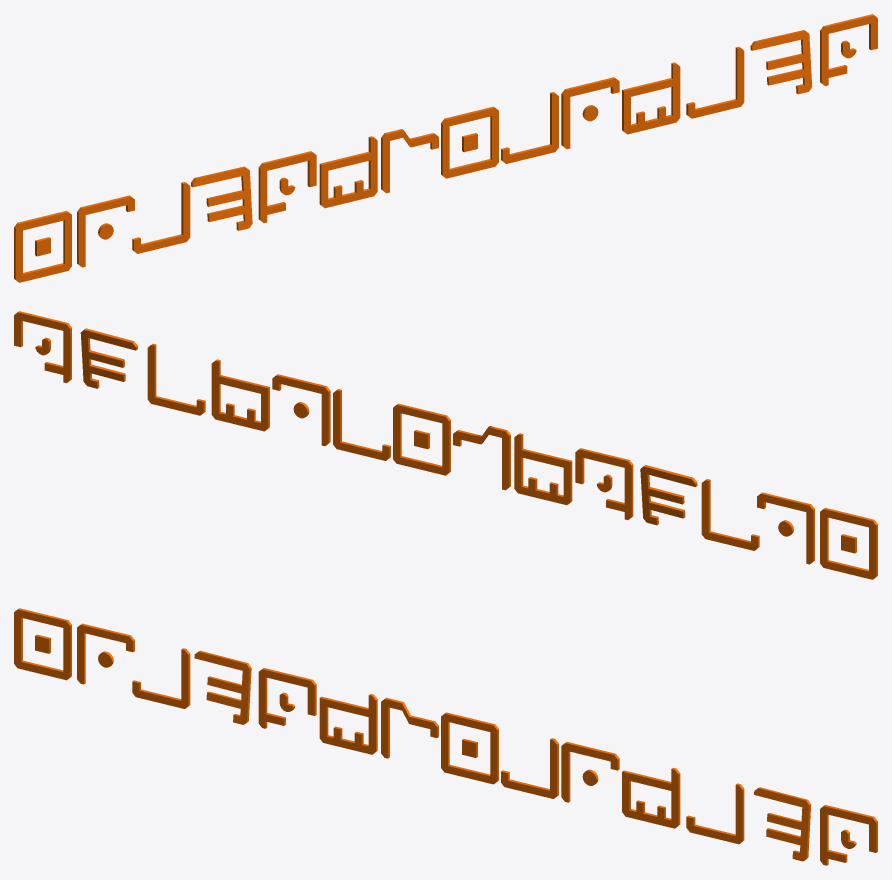
The model's file is Laser_Hieroglyphs.fbx.
The picture shows the model from 3 angles, top to bottom: view 1: azimuth 30°, elevation 25°; view 2: azimuth 150°, elevation 25°; view 3: azimuth 330°, elevation 25°; orthographic projection.
Visible parts, largest first — view 1: pCube1, pCube9, pCube6, pCube12, pCube4, pCube14, pCube5, pCube15, pCube11, pCube2, pCube13, pCube3 (+2 smaller); view 2: pCube1, pCube9, pCube6, pCube12, pCube4, pCube14, pCube5, pCube15, pCube11, pCube2, pCube13, pCube3 (+2 smaller); view 3: pCube9, pCube1, pCube6, pCube12, pCube4, pCube14, pCube5, pCube15, pCube11, pCube2, pCube13, pCube3 (+2 smaller).
Part boxes in pixels (bbox=[...]): pCube1: bbox=[14, 210, 71, 282]; pCube9: bbox=[441, 106, 498, 178]; pCube6: bbox=[319, 136, 377, 208]; pCube12: bbox=[622, 62, 680, 134]; pCube4: bbox=[191, 166, 252, 230]; pCube14: bbox=[750, 30, 812, 94]; pCube5: bbox=[258, 151, 316, 222]; pCube15: bbox=[820, 14, 877, 86]; pCube11: bbox=[561, 77, 619, 148]; pCube2: bbox=[77, 195, 134, 267]; pCube13: bbox=[686, 46, 744, 118]; pCube3: bbox=[132, 182, 190, 253]; pCube1: bbox=[820, 507, 877, 579]; pCube9: bbox=[393, 403, 450, 475]; pCube6: bbox=[514, 433, 572, 505]; pCube12: bbox=[211, 359, 269, 431]; pCube4: bbox=[640, 465, 697, 525]; pCube14: bbox=[80, 328, 137, 388]; pCube5: bbox=[575, 448, 633, 519]; pCube15: bbox=[14, 311, 71, 383]; pCube11: bbox=[272, 374, 330, 445]; pCube2: bbox=[757, 492, 814, 564]; pCube13: bbox=[147, 343, 205, 415]; pCube3: bbox=[701, 479, 759, 550]; pCube9: bbox=[441, 712, 498, 784]; pCube1: bbox=[14, 608, 71, 680]; pCube6: bbox=[319, 694, 377, 754]; pCube12: bbox=[622, 767, 680, 828]; pCube4: bbox=[194, 650, 251, 724]; pCube14: bbox=[754, 787, 811, 861]; pCube5: bbox=[258, 668, 316, 728]; pCube15: bbox=[820, 805, 877, 865]; pCube11: bbox=[561, 742, 619, 802]; pCube2: bbox=[77, 623, 134, 684]; pCube13: bbox=[686, 783, 744, 844]; pCube3: bbox=[132, 648, 190, 708].
Size of the model in its own units: 15.15 by 0.99 by 0.1802.
